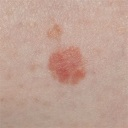Melanoma: (48, 44, 88, 82)
